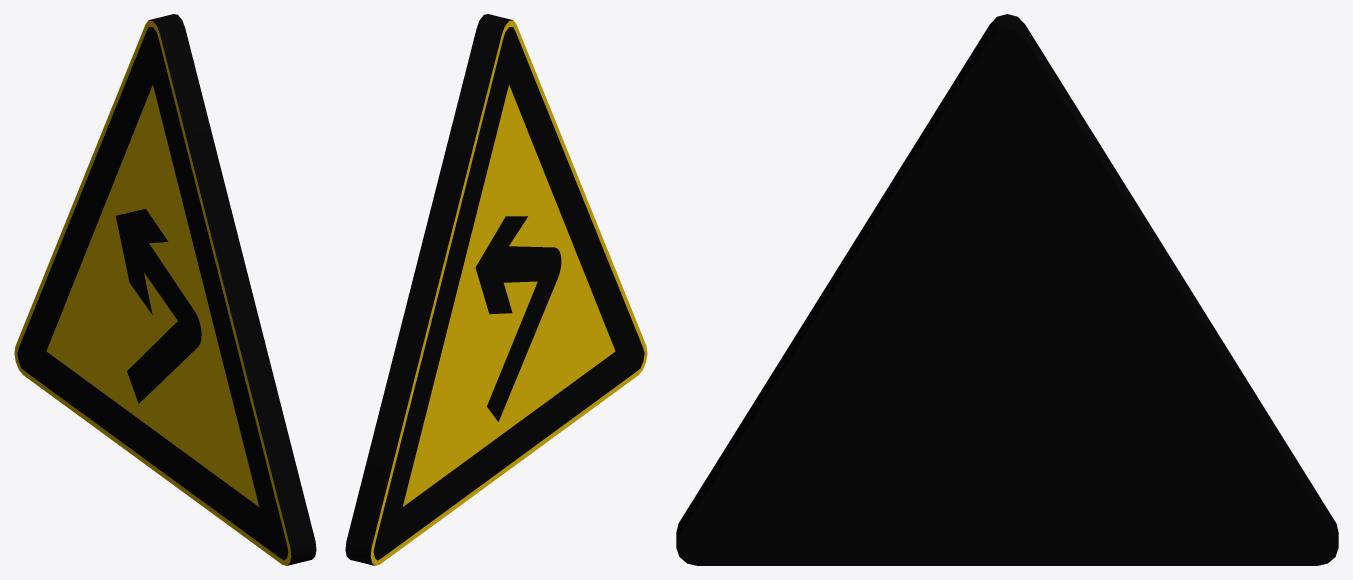
The model's file is Turn_Left_Quickly.fbx.
3 views of the same model, side by side, from view 1: azimuth 30°, elevation 25°; view 2: azimuth 150°, elevation 25°; view 3: azimuth 270°, elevation 25° (orthographic). The views are drawn at different scales.
Visible parts, largest first — view 1: Turn_Left_Quickly; view 2: Turn_Left_Quickly; view 3: Turn_Left_Quickly.
Boxes of the visible parts, box(x1,y1,x2,y2) form: Turn_Left_Quickly: box(14, 14, 316, 565); Turn_Left_Quickly: box(345, 14, 647, 565); Turn_Left_Quickly: box(676, 14, 1338, 565).
Bounding box in the file's own units: 0.0643 × 1.02 × 1.14.
